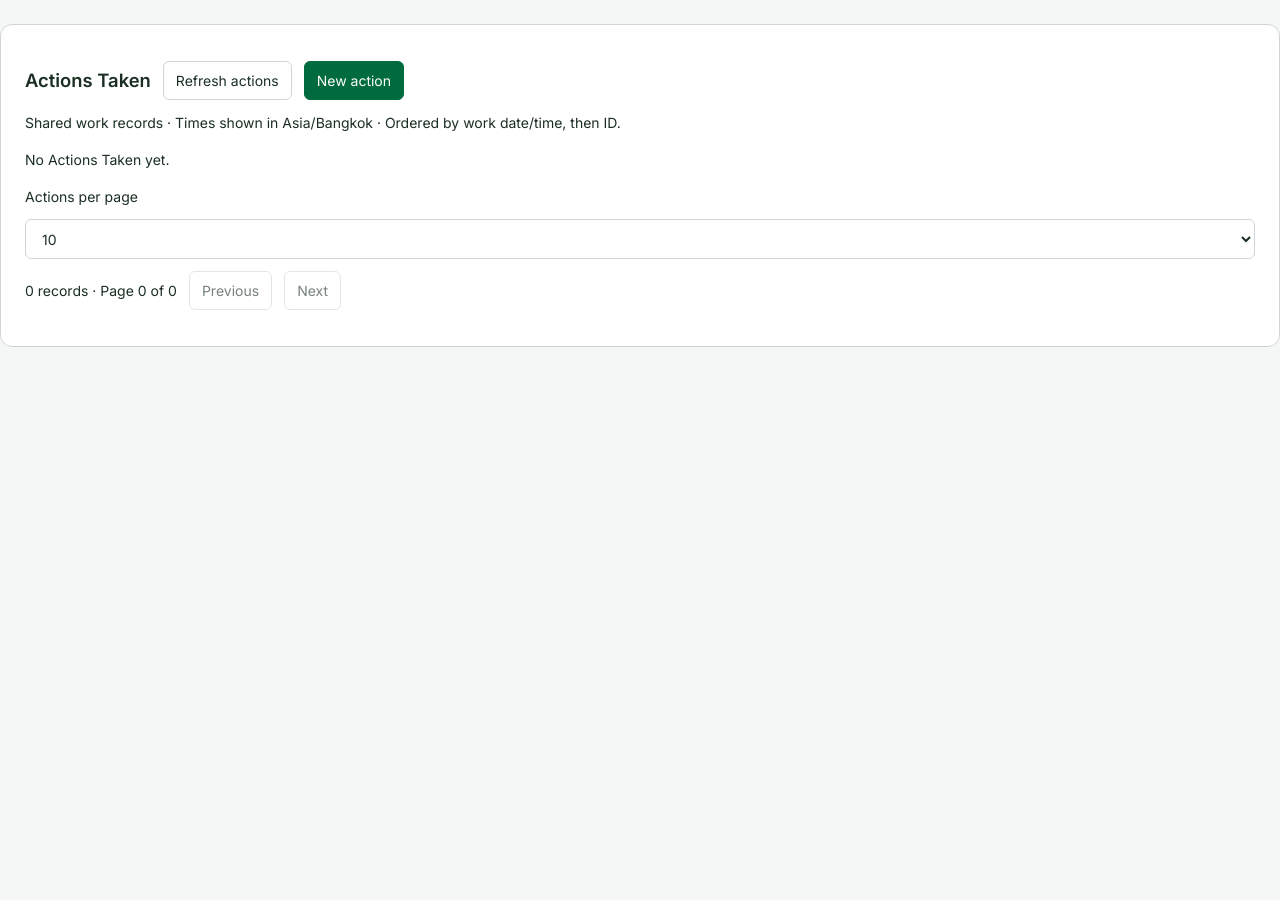
Test: Actions Taken interface › sends automatic actor only as display, prevents duplicate submissions and refreshes on success
Expected: the text "No Actions Taken yet." is shown, [25,151,170,168]
Click the button "New action": (354, 80) [304,61,404,100]
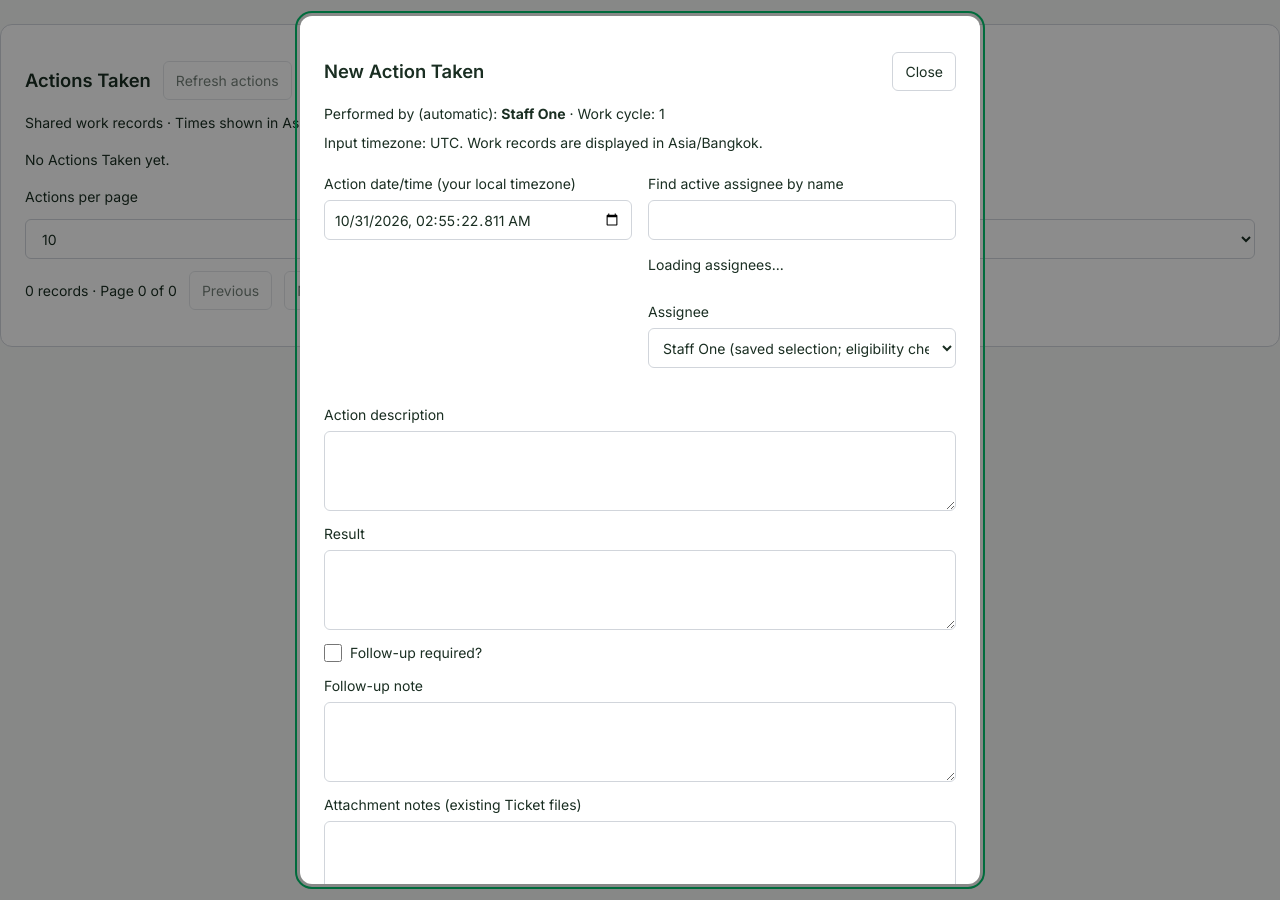
In the text box labelled "Action description": (640, 471) [324,431,956,511], type "Investigate"
(page scrolled)
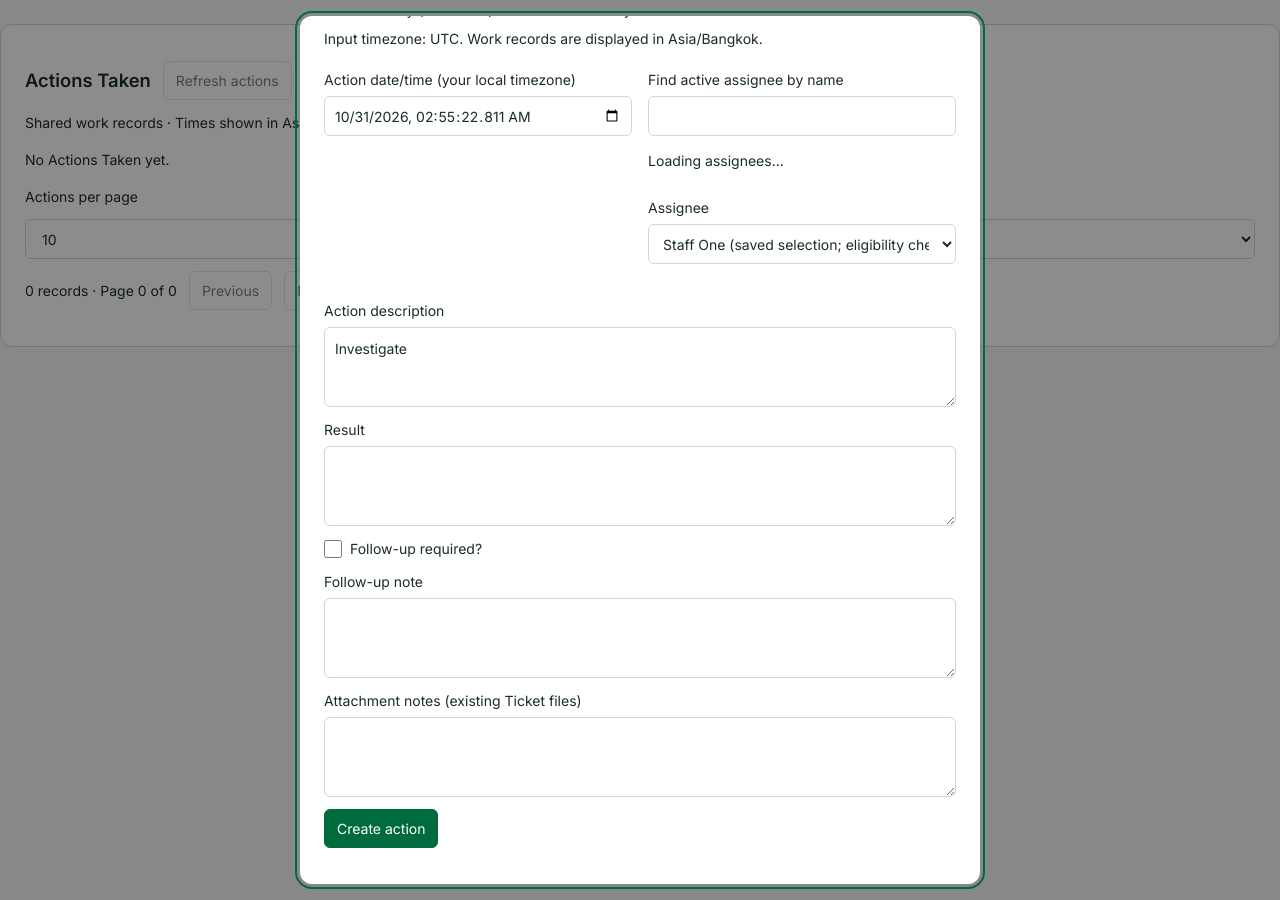
Click the button "Create action": (381, 828) [324,809,438,848]
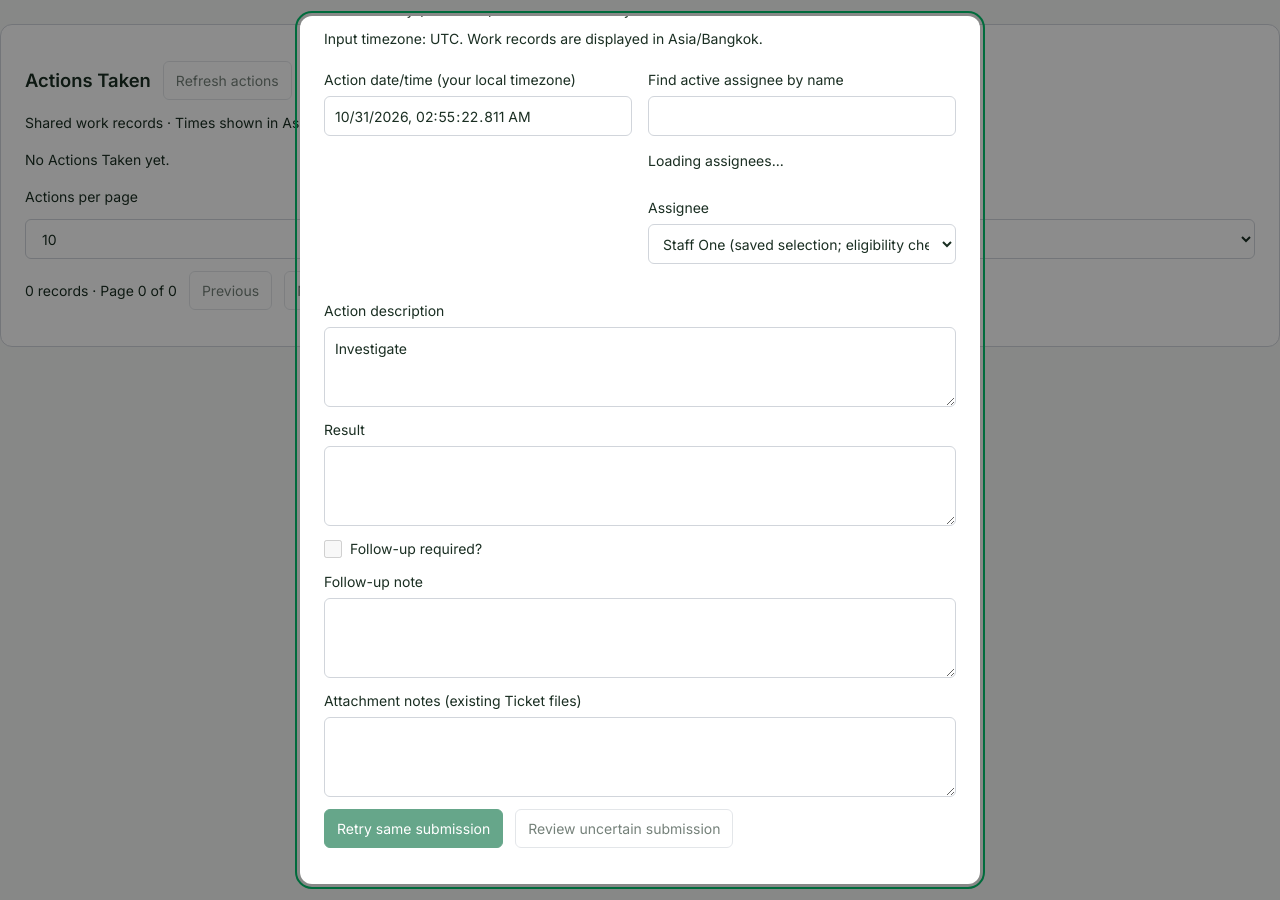
Click the button named "Create action": (414, 828) [324,809,503,848]
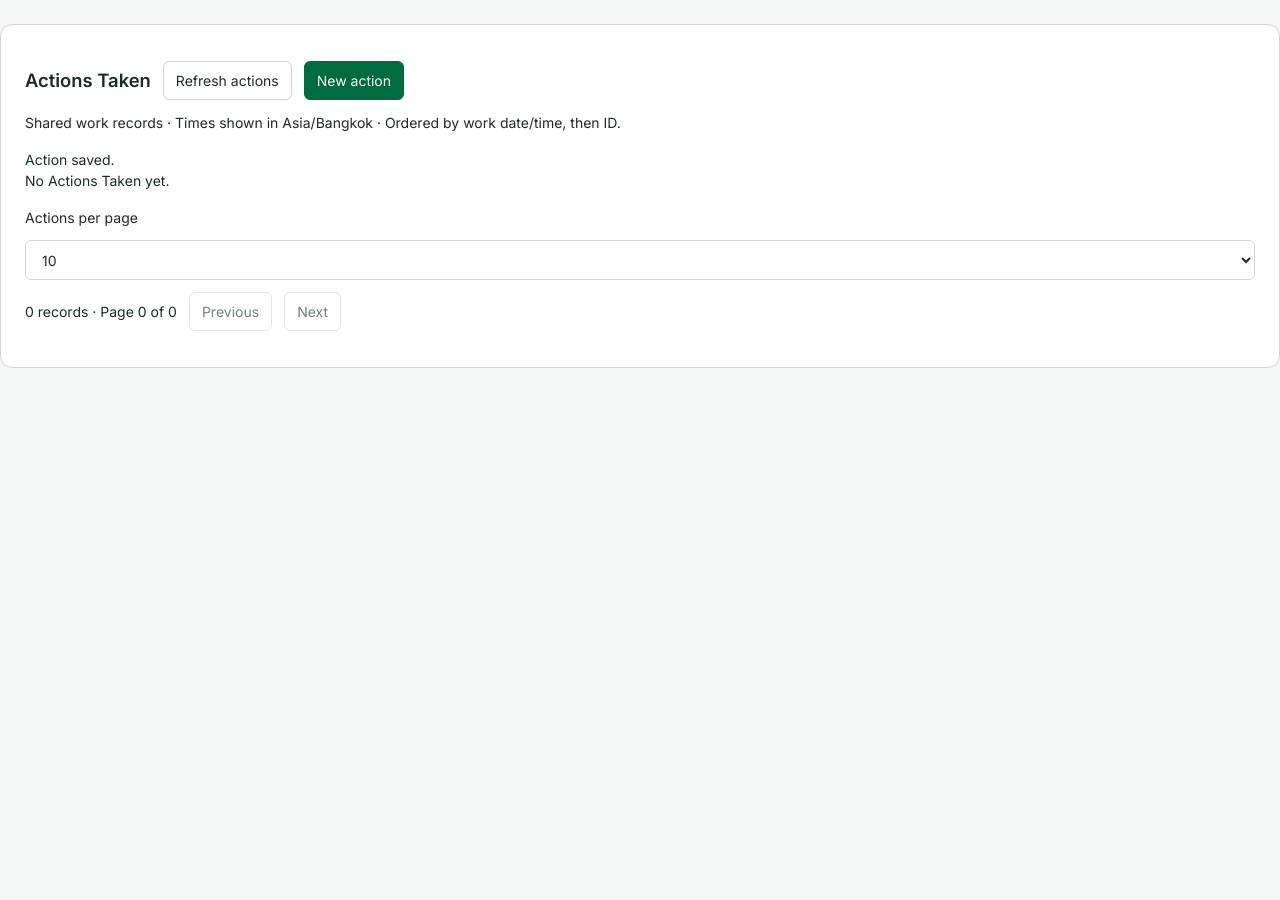
Expected: the dialog is gone
Expected: the text "Action saved." is shown, [25,151,115,168]
